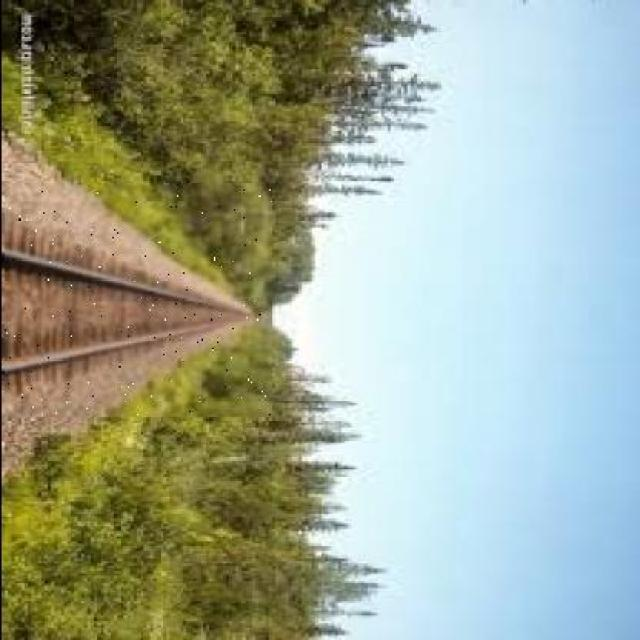rail: (3, 186, 271, 415)
